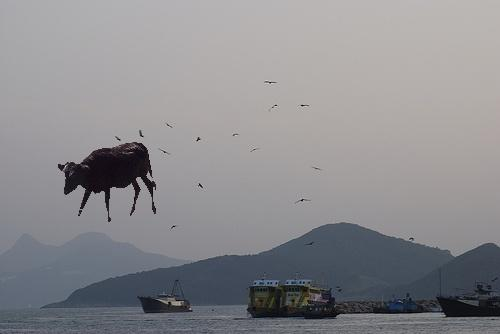tampered: (59, 143, 156, 222)
